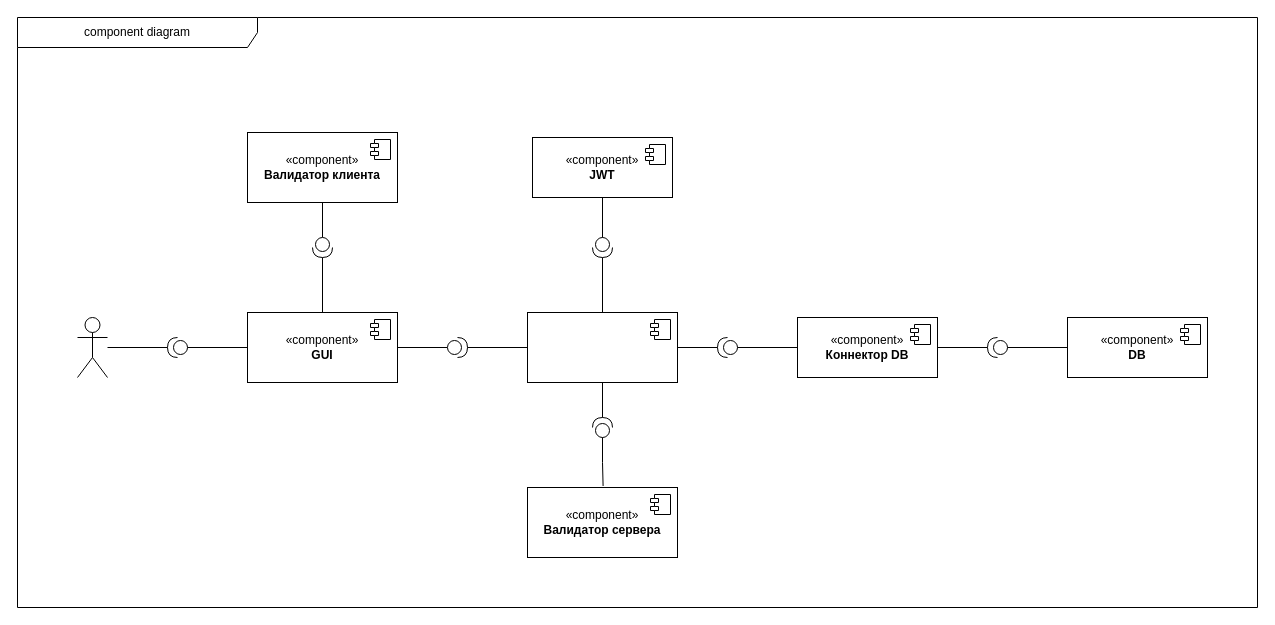
Image size: 1275x625. Some labels were removed from this diagram. The box of each missing label's shape, as (x1, y1, x2, y2) in pixels:
«component» Обработчик команд: (526, 312, 678, 382)
Гость: (76, 316, 108, 378)
